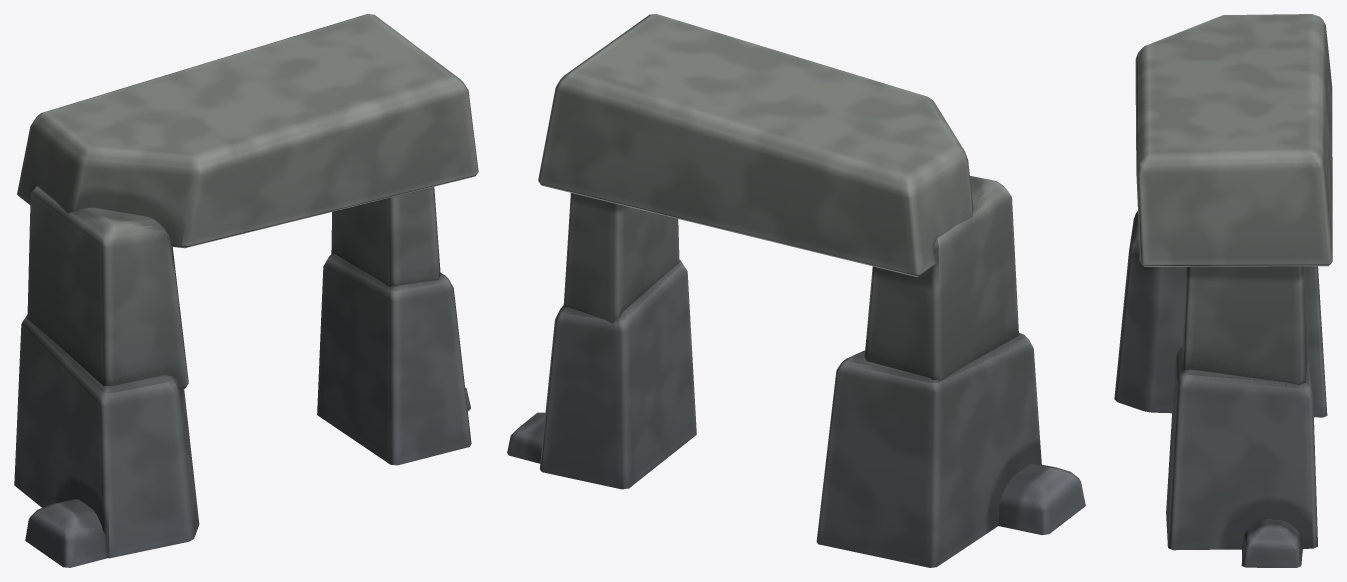
The model's file is arch_1.glb.
The picture shows the model from 3 angles, left to right: view 1: azimuth 30°, elevation 25°; view 2: azimuth 150°, elevation 25°; view 3: azimuth 270°, elevation 25°; orthographic projection. The views are drawn at different scales.
Parts seen in each view (by area): view 1: arch_1; view 2: arch_1; view 3: arch_1.
Boxes of the visible parts, x1,y1,x2,y2 form: arch_1: (14, 14, 478, 567); arch_1: (507, 14, 1085, 567); arch_1: (1114, 14, 1332, 567).
Size of the model in its own units: 4.2 by 3.3 by 1.7.
Materials: 1 (1 with a texture image).
